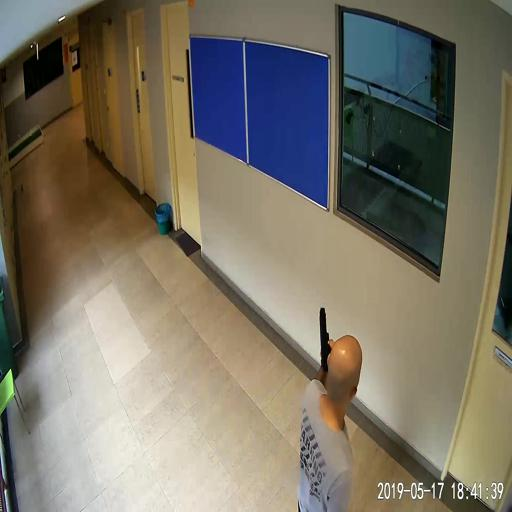pistol: (319, 306, 334, 369)
